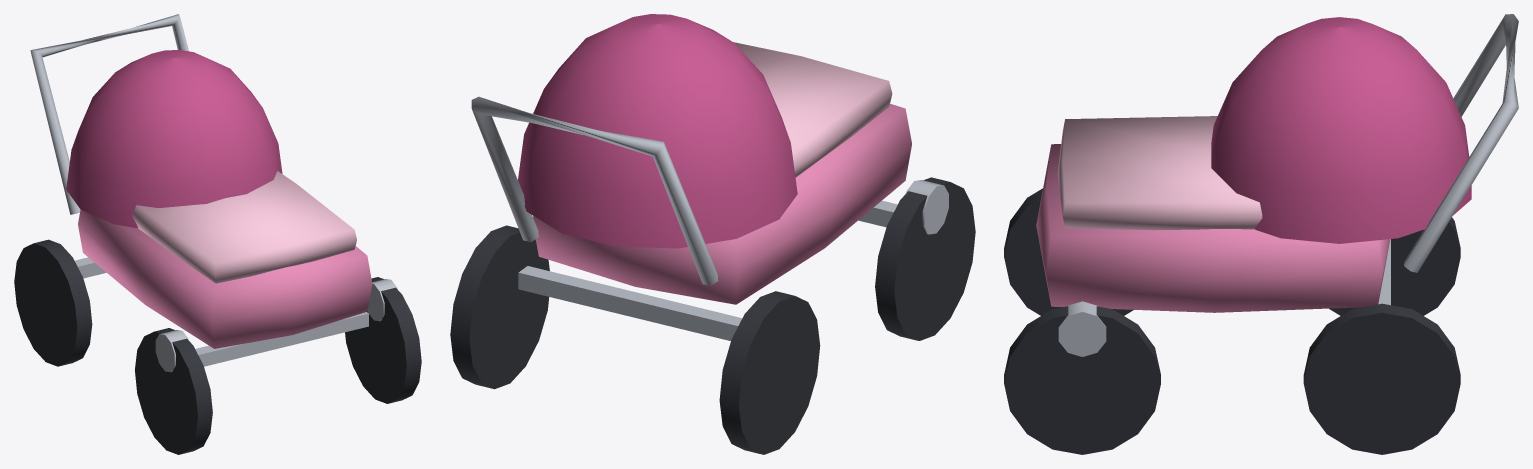
Rendered from baby_stroller.glb.
The picture shows the model from 3 angles, left to right: view 1: azimuth 30°, elevation 25°; view 2: azimuth 150°, elevation 25°; view 3: azimuth 270°, elevation 25°; orthographic projection. The views are drawn at different scales.
Parts seen in each view (by area): view 1: root; view 2: root; view 3: root.
Part boxes in pixels (x1,y1,x2,y2): root: [14, 14, 421, 454]; root: [450, 14, 975, 454]; root: [1004, 14, 1518, 454].
Bounding box in the file's own units: 0.91 × 1.11 × 1.44.
